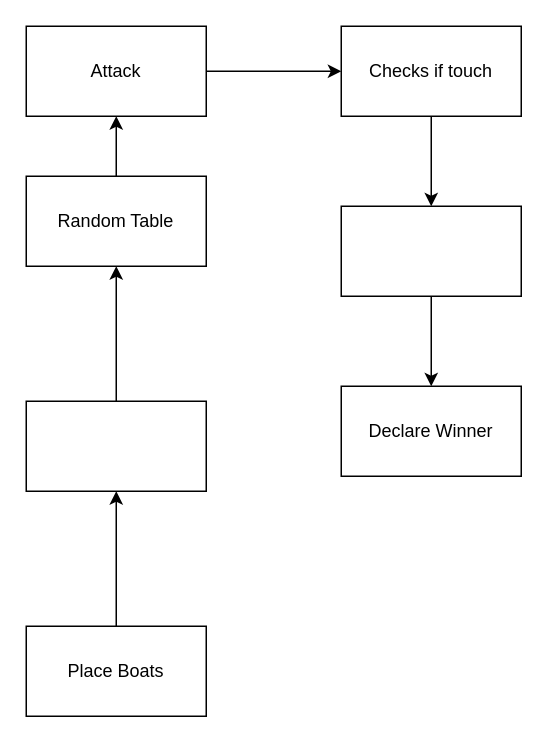
This 548x743 diagram has some shape labels left out. Each missing label, with the centre of its shape:
"Register Pos" goes at pixel 115 445.
"Scores" goes at pixel 430 250.
